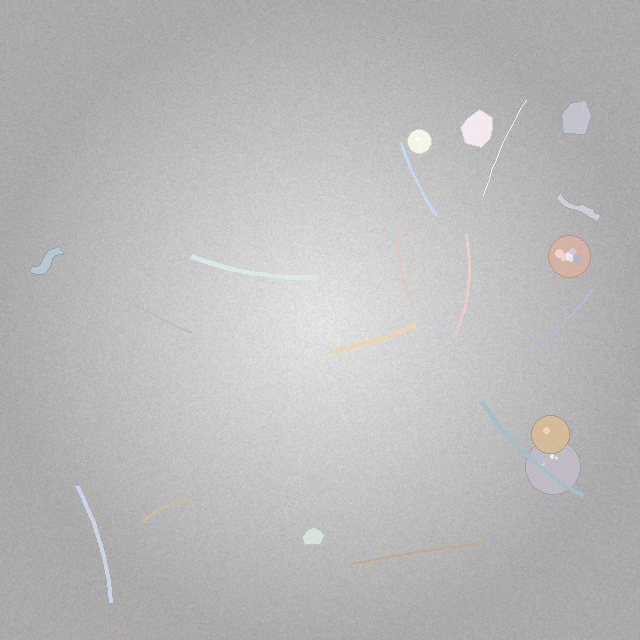fiber: (476, 397, 587, 500), (72, 481, 115, 606), (103, 285, 195, 337), (527, 287, 595, 354), (482, 99, 528, 198), (186, 251, 323, 284), (350, 539, 489, 568), (325, 319, 421, 357), (397, 139, 440, 219), (453, 232, 473, 337), (395, 226, 415, 304), (140, 496, 190, 525)
film: (557, 193, 601, 221), (30, 247, 65, 274)
foam: (526, 440, 580, 494), (548, 235, 590, 277)
fragment: (460, 110, 493, 147), (562, 100, 592, 134), (303, 528, 325, 545)
pellet: (532, 416, 569, 453), (408, 129, 432, 154)
